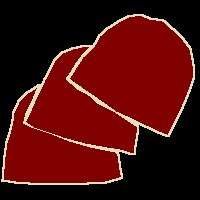hat: (68, 14, 194, 136), (24, 45, 138, 154), (2, 84, 122, 184)
